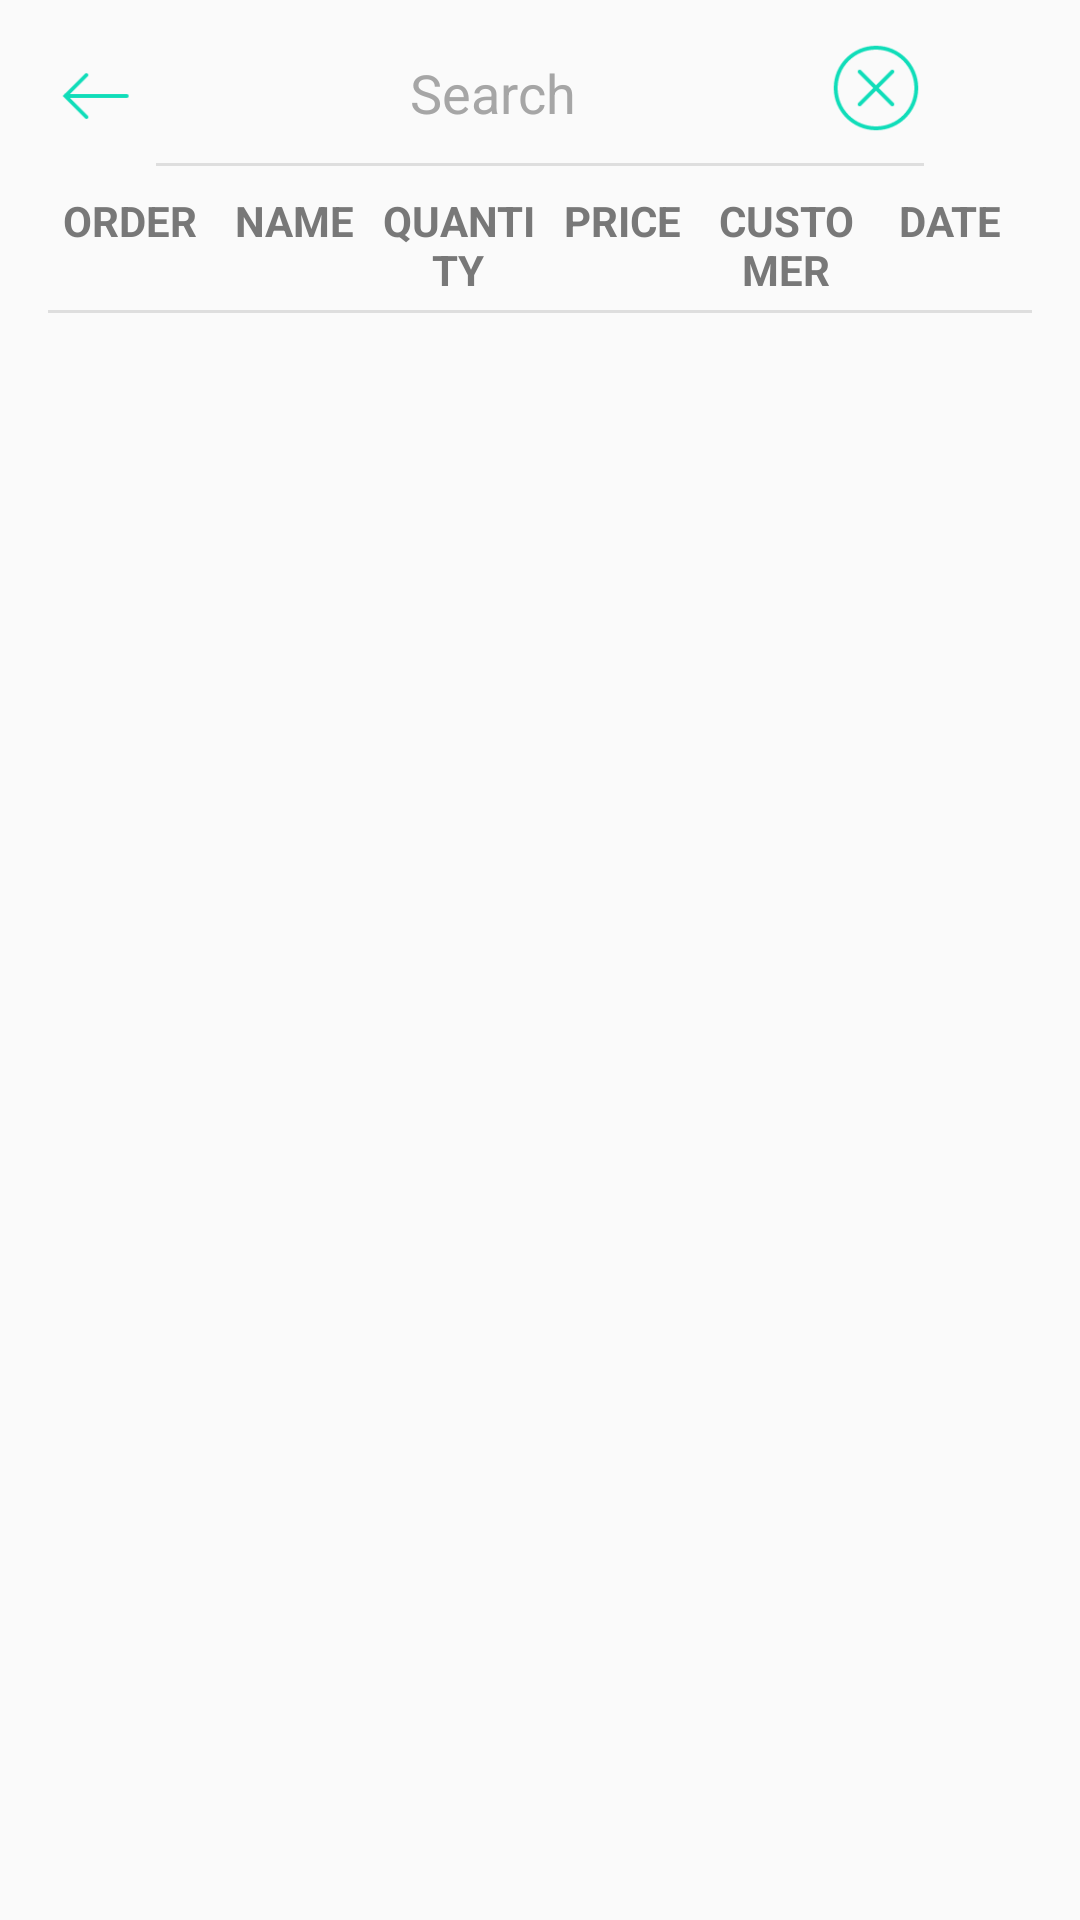

Icons on this 1080*1920 Android screen, each with the point to tap as (x=x, y=y):
back: (x=95, y=96)
cancel: (x=876, y=88)
